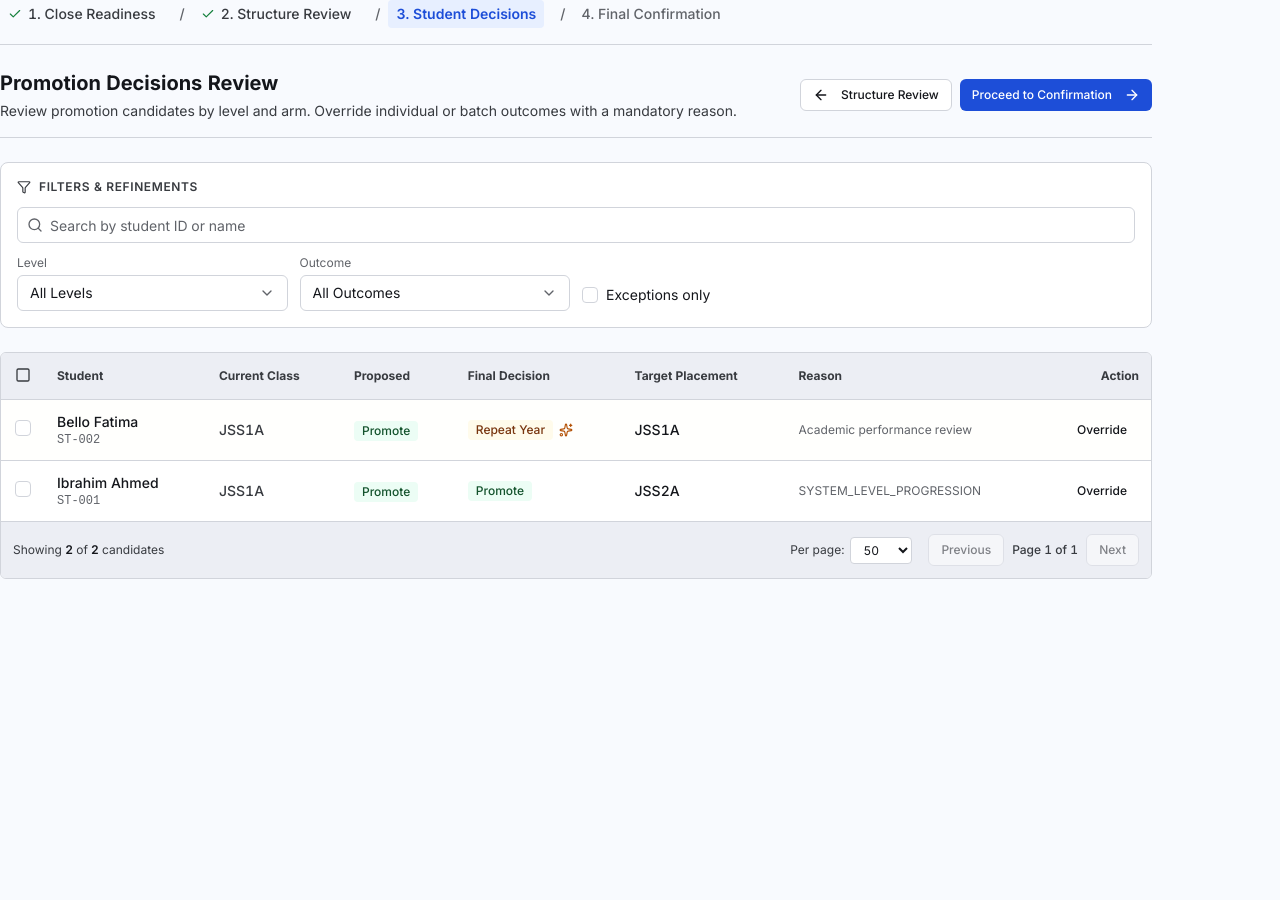
it: StudentDecisionsScreen › supports batch selection and opens batch override dialog
Click the button named "Select all visible" at (23, 375), box left=13, top=365, right=33, bottom=385
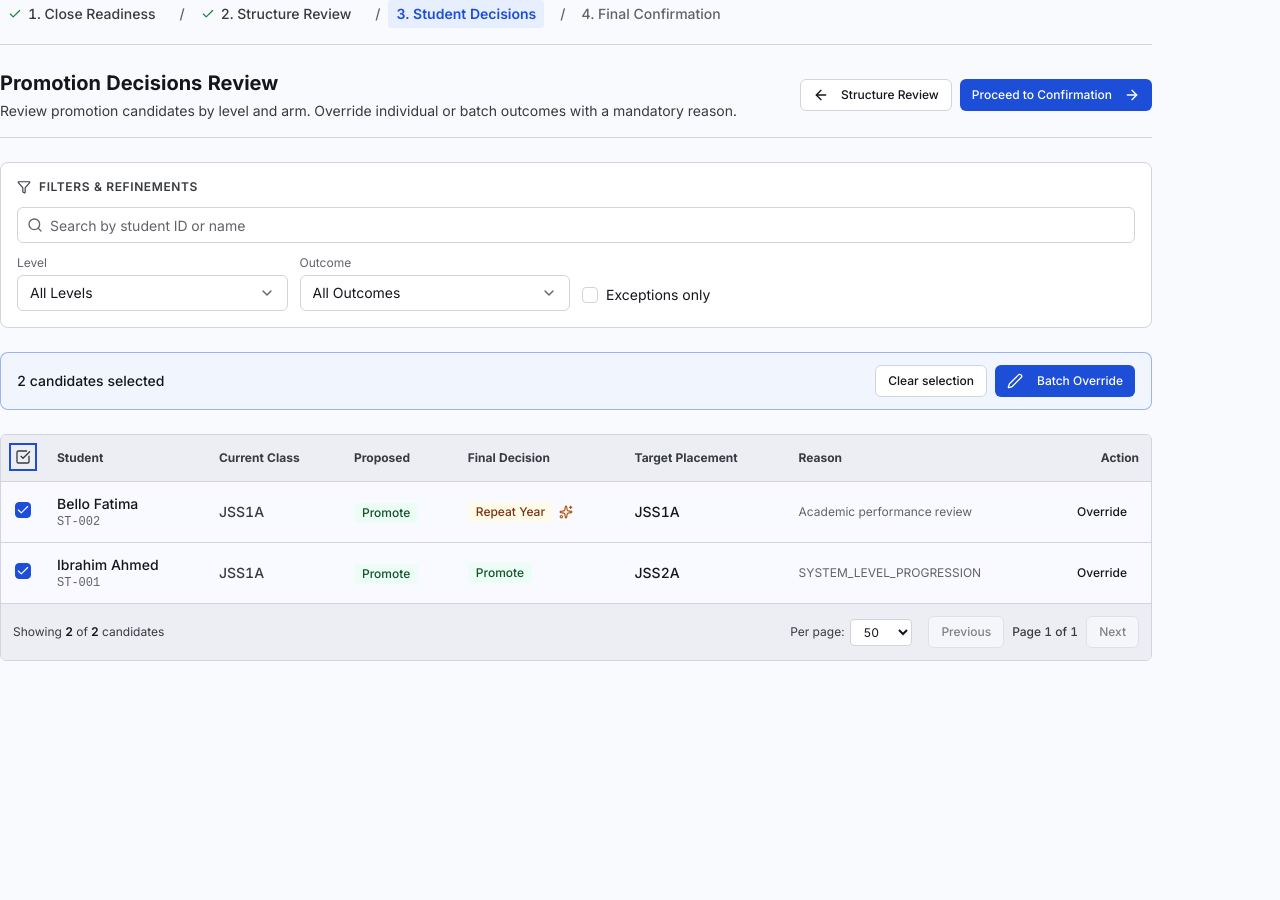
Expected: the text "2 candidates selected" is shown, left=17, top=371, right=164, bottom=391
Expected: the button "Batch Override" is shown
Click the button "Batch Override" at (1065, 381), box left=995, top=365, right=1135, bottom=397
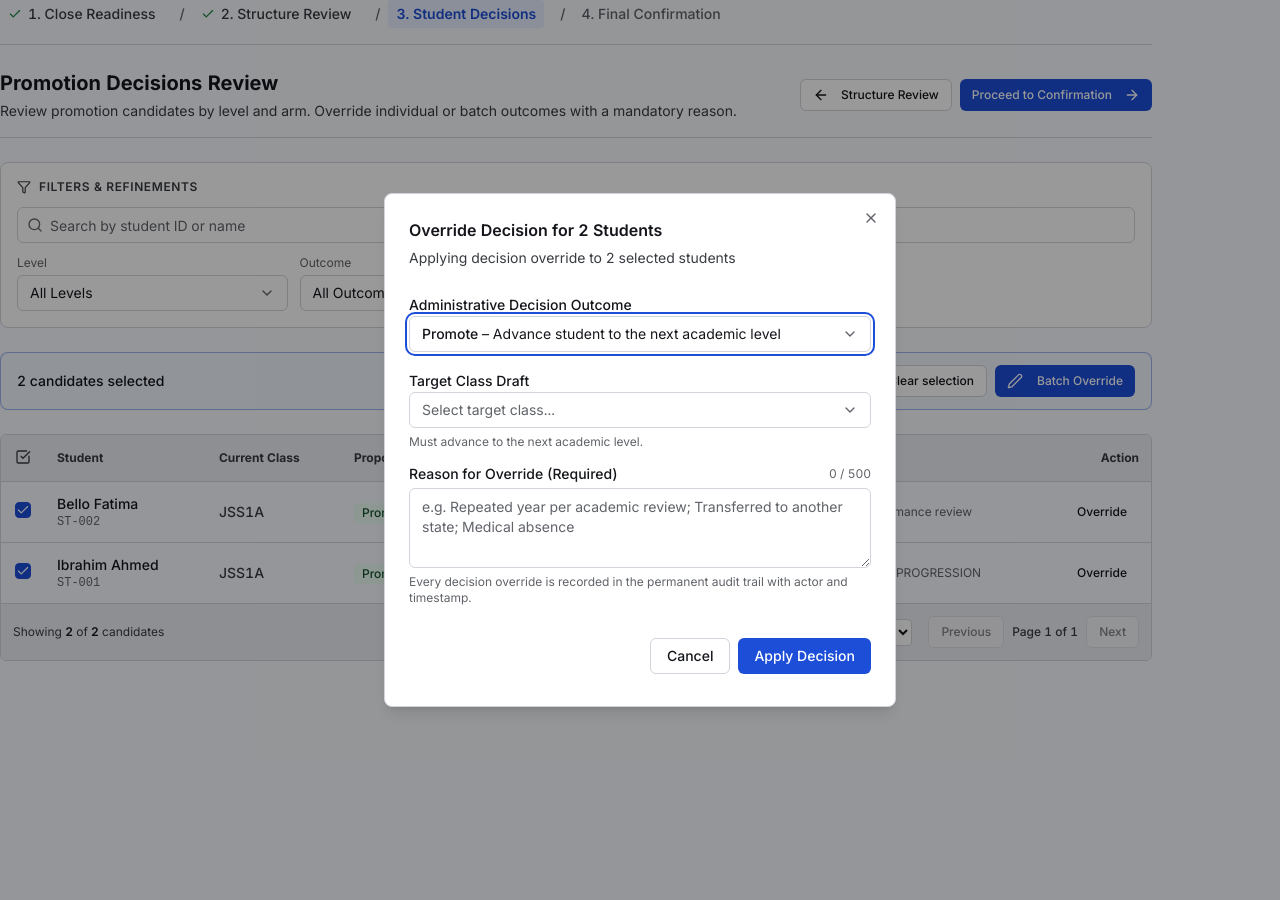
Expected: the heading "Override Decision for 2 Students" is shown, left=409, top=220, right=662, bottom=240
